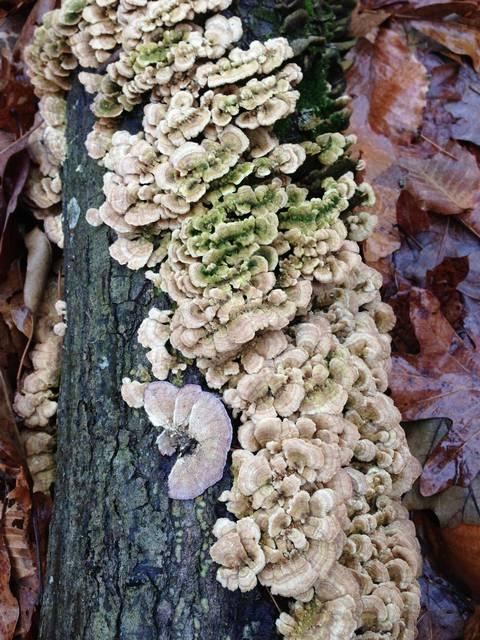poisonous_mushroom: (21, 0, 426, 639), (141, 379, 233, 500)
